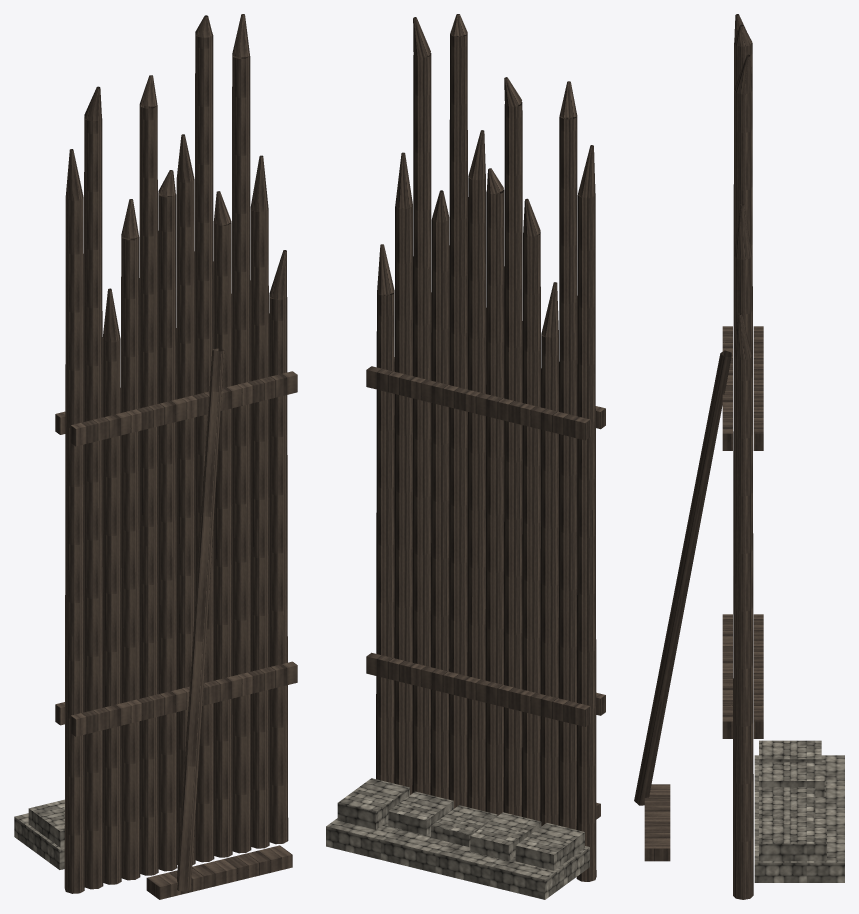
Rendered from Rampart_Wood_Burnt_1.gltf.
The picture shows the model from 3 angles, left to right: view 1: azimuth 30°, elevation 25°; view 2: azimuth 150°, elevation 25°; view 3: azimuth 270°, elevation 25°; orthographic projection.
Parts seen in each view (by area): view 1: Rampart_Wood_Burnt_1; view 2: Rampart_Wood_Burnt_1; view 3: Rampart_Wood_Burnt_1.
Part boxes in pixels (bbox=[...]): Rampart_Wood_Burnt_1: bbox=[14, 14, 297, 899]; Rampart_Wood_Burnt_1: bbox=[326, 14, 605, 899]; Rampart_Wood_Burnt_1: bbox=[634, 14, 844, 899].
Bounding box in the file's own units: 4 × 14.5 × 3.32.
2 materials, 2 textured.
